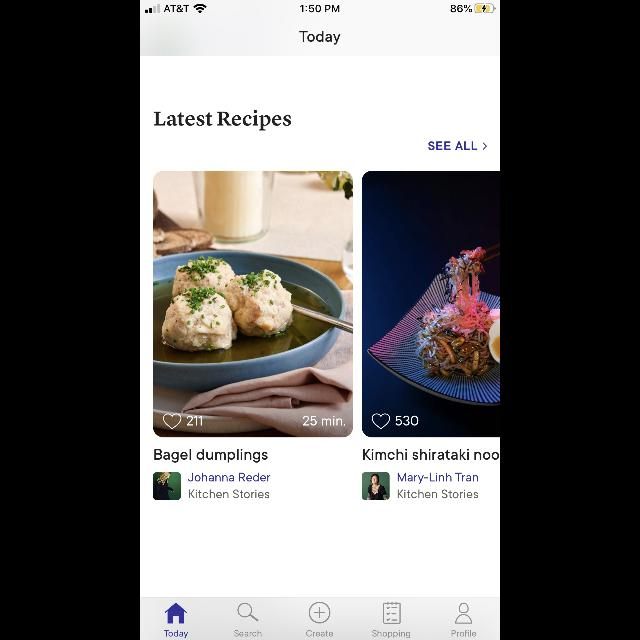icon: (310, 602, 330, 624), (165, 603, 187, 623), (454, 602, 472, 624), (384, 602, 401, 624), (238, 603, 258, 621), (164, 414, 182, 428), (372, 414, 390, 428), (483, 142, 487, 150)
image: (154, 171, 352, 437), (362, 171, 500, 437), (362, 472, 390, 500), (154, 472, 180, 500)
text: (154, 110, 292, 132), (154, 449, 268, 463), (363, 448, 499, 459), (398, 472, 478, 483), (188, 472, 270, 482), (189, 489, 269, 498), (398, 490, 478, 498), (300, 31, 340, 45), (303, 416, 345, 426), (429, 142, 477, 150), (372, 630, 410, 638), (396, 416, 418, 426), (164, 630, 188, 638), (234, 630, 262, 636), (306, 630, 334, 636), (452, 630, 476, 636), (188, 416, 202, 426)
uppertaskbar: (140, 0, 500, 14)
